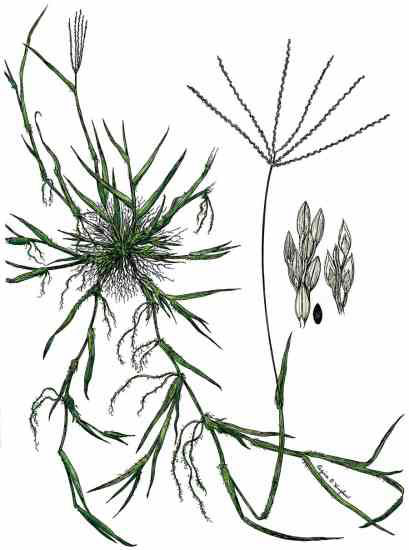crabgrass: (18, 99, 212, 342)
